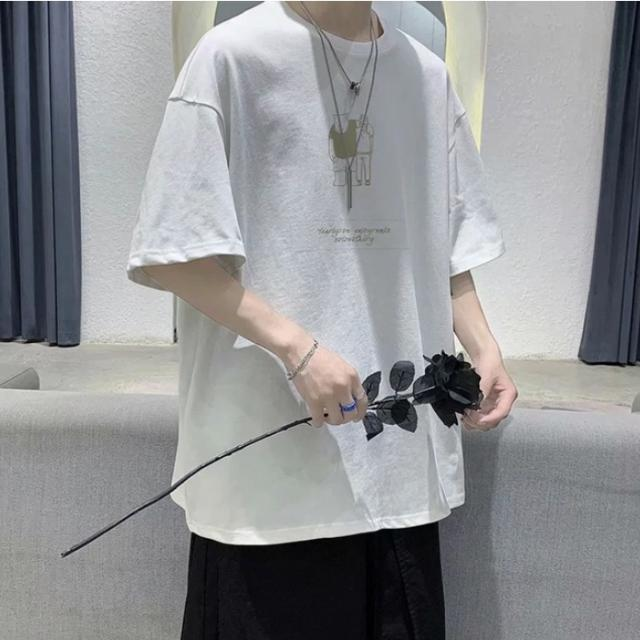Standing: (118, 0, 525, 637)
